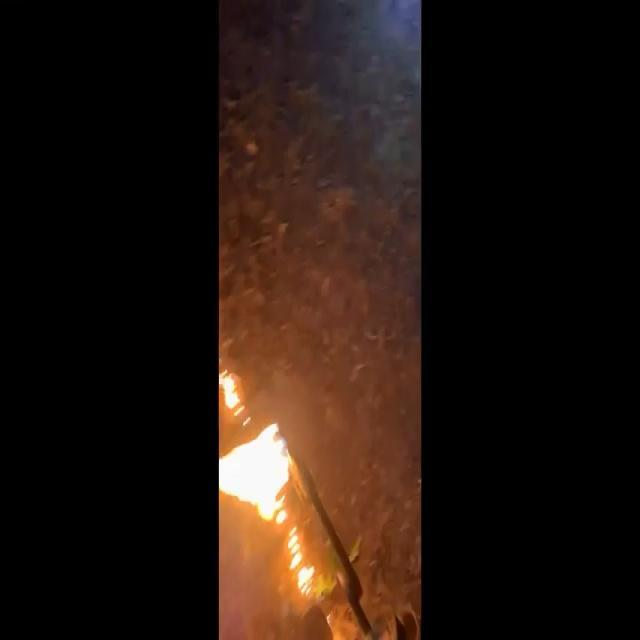Fire: (220, 368, 312, 598)
